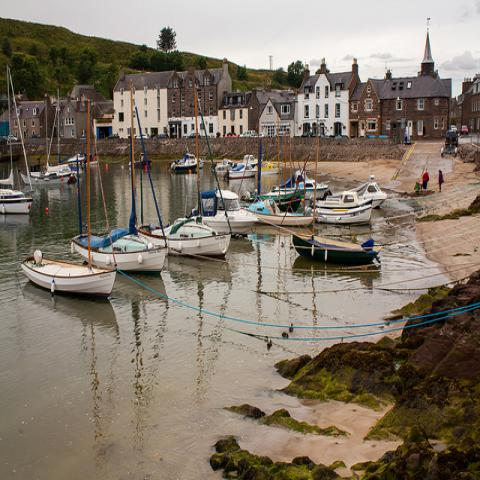car: (444, 128, 458, 149), (182, 131, 202, 139), (240, 131, 257, 138), (153, 132, 169, 139), (224, 132, 239, 138), (8, 134, 18, 143), (450, 124, 458, 134), (106, 133, 119, 139), (301, 132, 316, 137), (136, 134, 150, 139), (461, 126, 468, 135), (260, 132, 269, 138)
